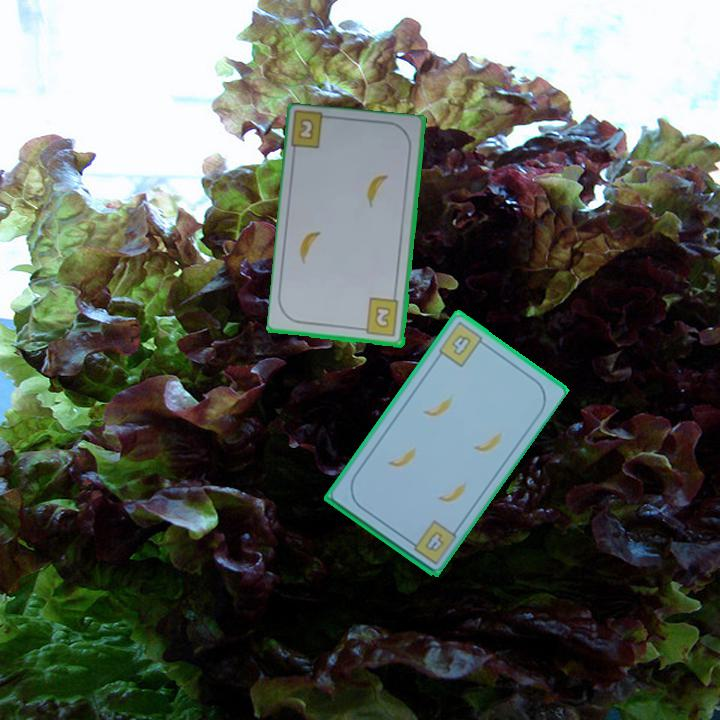2b: (357, 295, 402, 340), (295, 117, 316, 143)
4b: (435, 318, 490, 370), (421, 527, 447, 555)
